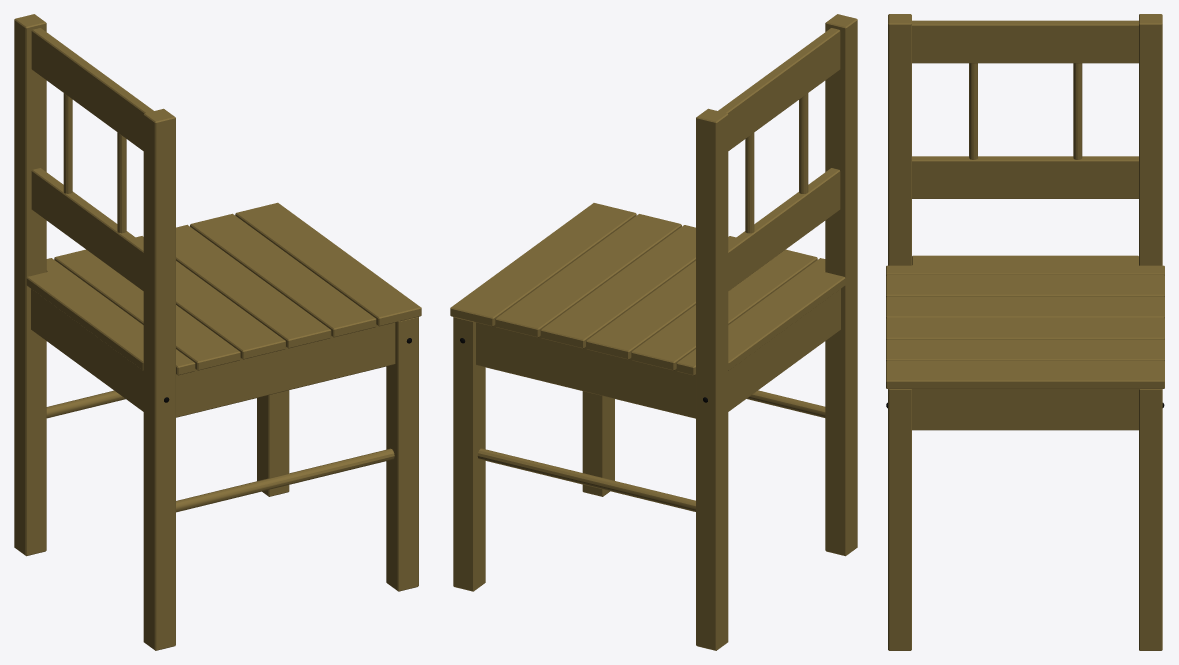
File: chair4.FBX
3 views of the same model, side by side, from view 1: azimuth 30°, elevation 25°; view 2: azimuth 150°, elevation 25°; view 3: azimuth 270°, elevation 25° (orthographic). The views are drawn at different scales.
Parts seen in each view (by area): view 1: Box21.Box22, Box21, Box23, Box13, Box15, Box15.Box16, Box15.Box17, Box27, Box27.Box28, Box05, Box15.Box19, Box25.Box26 (+6 smaller); view 2: Box21, Box21.Box22, Box23.Box24, Box13.Box14, Box15, Box15.Box16, Box15.Box17, Box27, Box27.Box28, Box05, Box15.Box19, Box25.Box26 (+6 smaller); view 3: Box27, Box27.Box28, Box25, Box15, Box15.Box17, Box13, Box13.Box14, Box15.Box16, Box15.Box18, Box15.Box19, Box21, Box21.Box22 (+3 smaller).
Boxes of the visible parts, x1,y1,x2,y2 form: Box21.Box22: [143, 108, 175, 650]; Box21: [14, 14, 46, 556]; Box23: [176, 322, 395, 417]; Box13: [386, 317, 418, 591]; Box15: [235, 202, 421, 326]; Box15.Box16: [190, 213, 376, 337]; Box15.Box17: [176, 224, 331, 348]; Box27: [31, 28, 153, 150]; Box27.Box28: [31, 168, 143, 290]; Box05: [26, 258, 195, 375]; Box15.Box19: [54, 249, 240, 370]; Box25.Box26: [31, 289, 143, 411]; Box21: [696, 108, 728, 650]; Box21.Box22: [825, 14, 857, 556]; Box23.Box24: [476, 322, 695, 418]; Box13.Box14: [453, 317, 485, 591]; Box15: [450, 203, 636, 326]; Box15.Box16: [495, 214, 681, 337]; Box15.Box17: [540, 225, 695, 348]; Box27: [718, 28, 840, 150]; Box27.Box28: [728, 168, 840, 290]; Box05: [676, 258, 845, 375]; Box15.Box19: [631, 249, 817, 370]; Box25.Box26: [728, 289, 840, 411]; Box27: [912, 20, 1138, 63]; Box27.Box28: [912, 156, 1138, 198]; Box25: [912, 389, 1138, 430]; Box15: [886, 360, 1164, 388]; Box15.Box17: [886, 317, 1164, 339]; Box13: [888, 389, 911, 650]; Box13.Box14: [1139, 389, 1162, 650]; Box15.Box16: [886, 339, 1164, 361]; Box15.Box18: [886, 296, 1164, 318]; Box15.Box19: [886, 275, 1164, 296]; Box21: [1139, 14, 1162, 265]; Box21.Box22: [888, 14, 911, 265].
Bounding box in the file's own units: 11.36 × 21.61 × 10.65.
